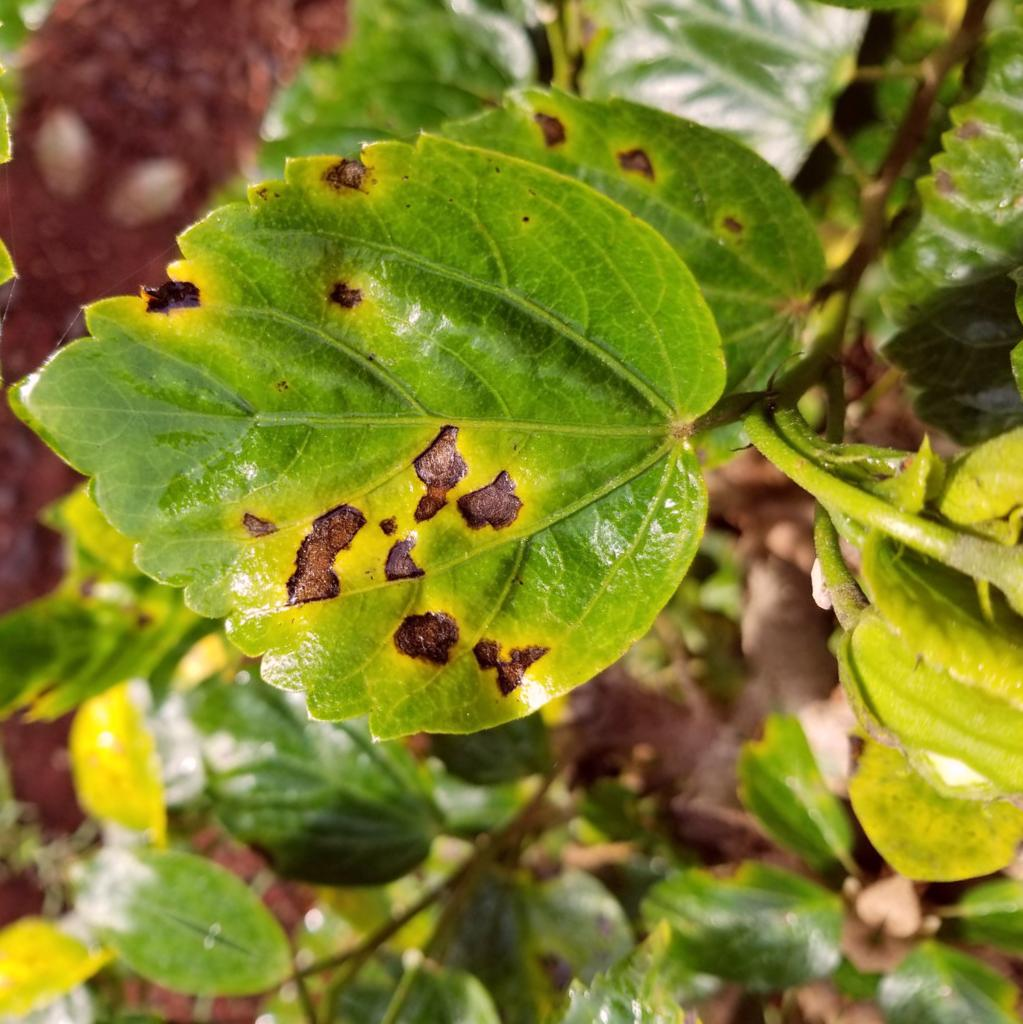Tomato leaf bacterial spot: (0, 18, 816, 853)
